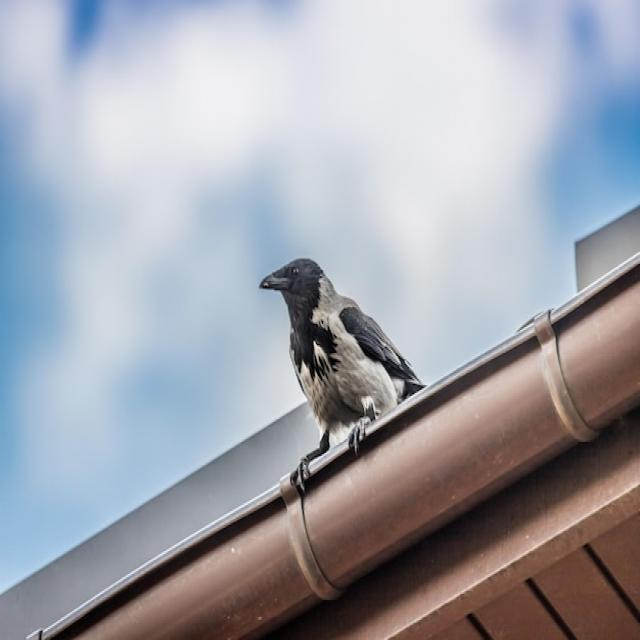bird: (232, 206, 462, 520)
